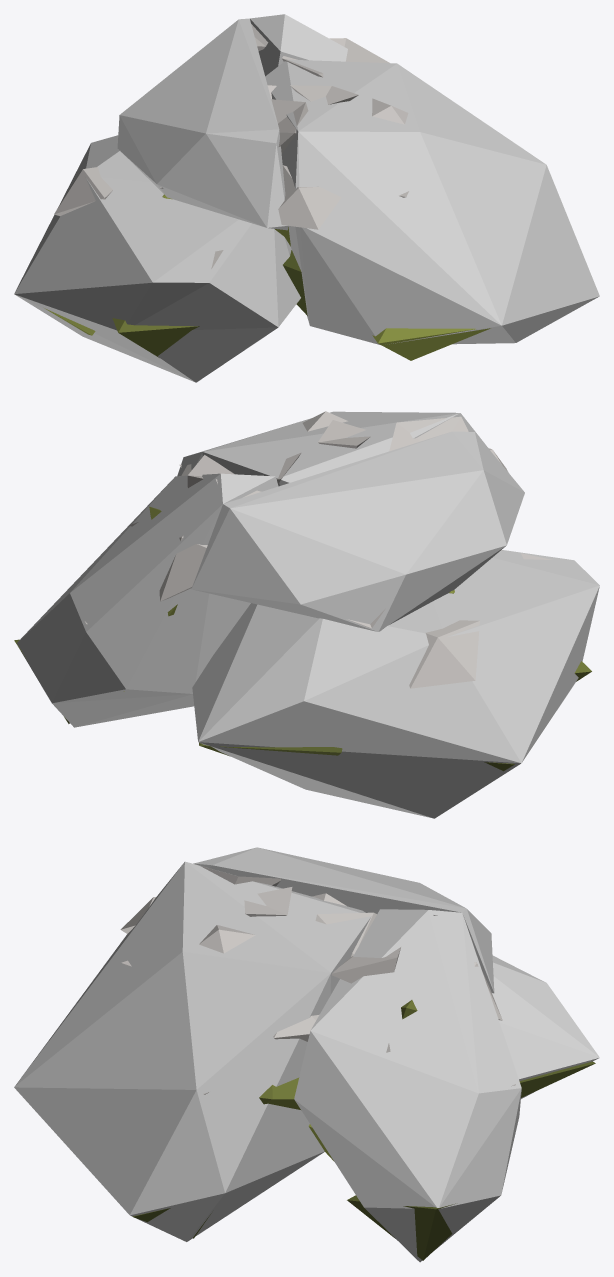
The model's file is SM_Env_Flowers_05.fbx.
3 views of the same model, one above another, from view 1: azimuth 30°, elevation 25°; view 2: azimuth 150°, elevation 25°; view 3: azimuth 270°, elevation 25° (orthographic). The views are drawn at different scales.
Visible parts, largest first — view 1: SM_Env_Flowers_05_ConvexHulls, SM_Env_Flowers_05; view 2: SM_Env_Flowers_05_ConvexHulls, SM_Env_Flowers_05; view 3: SM_Env_Flowers_05_ConvexHulls, SM_Env_Flowers_05.
Part boxes in pixels (<box>): SM_Env_Flowers_05_ConvexHulls: <box>14,14,599,382</box>; SM_Env_Flowers_05: <box>44,24,490,360</box>; SM_Env_Flowers_05_ConvexHulls: <box>17,411,599,818</box>; SM_Env_Flowers_05: <box>14,411,591,771</box>; SM_Env_Flowers_05_ConvexHulls: <box>14,847,599,1262</box>; SM_Env_Flowers_05: <box>120,866,595,1260</box>.
Size of the model in its own units: 91.01 by 96.75 by 51.39.
Materials: 2 (1 with a texture image).
